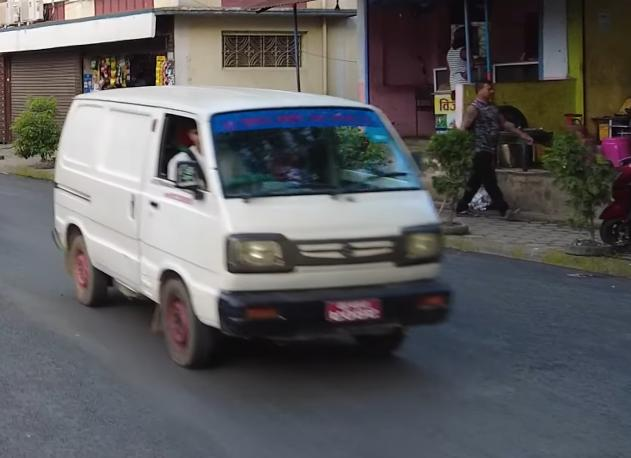van: (47, 75, 460, 375)
